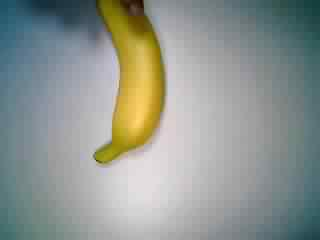banana: (87, 1, 173, 169)
